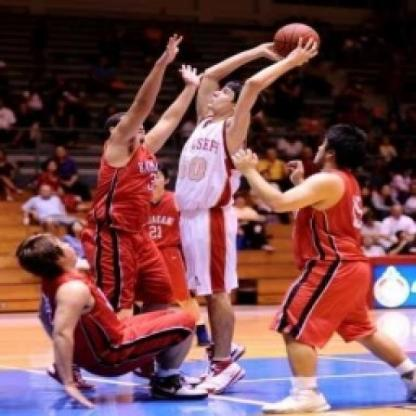basketball: (272, 20, 324, 59)
